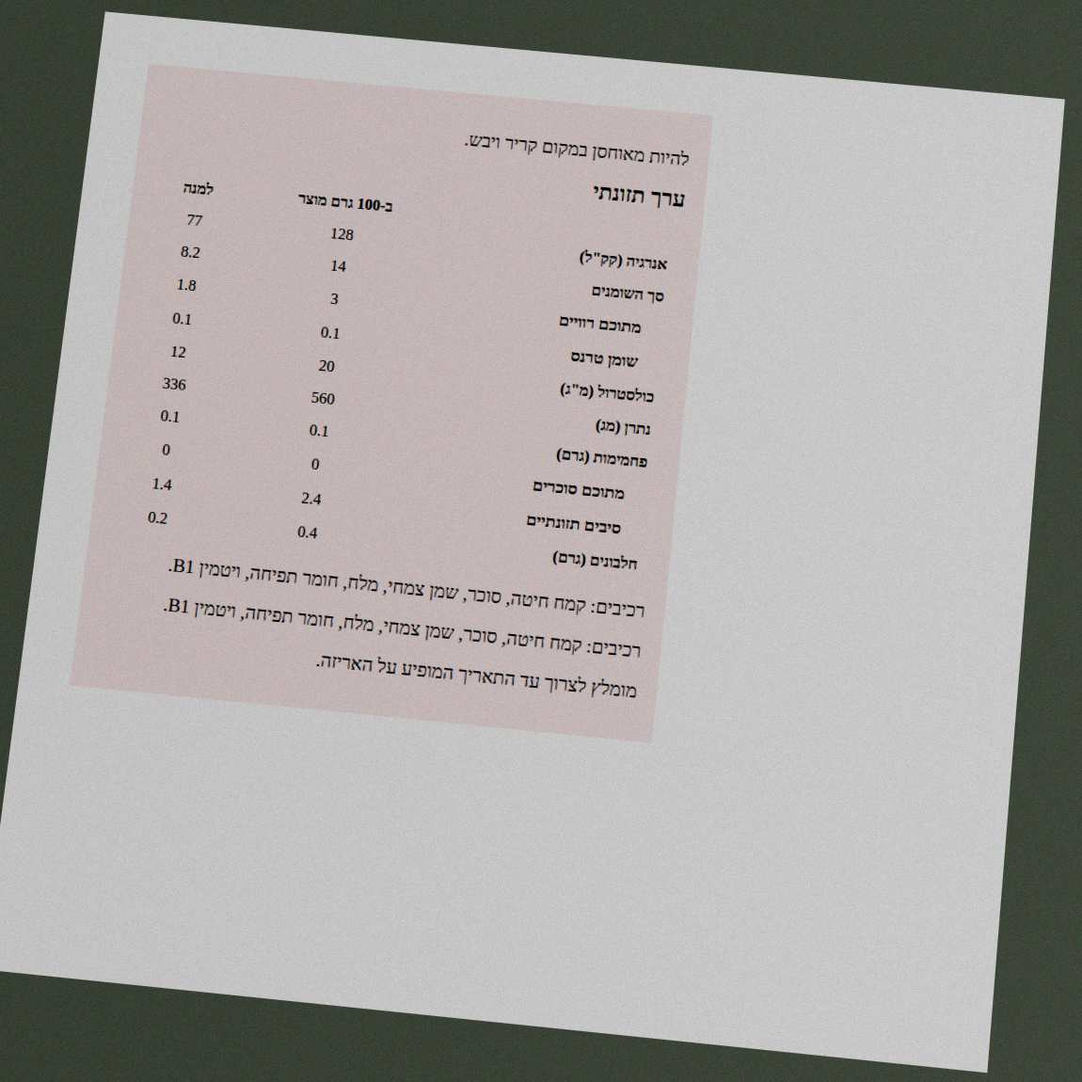carbs: (306, 419, 332, 442)
energy: (327, 223, 357, 245)
fat: (328, 255, 349, 277)
protein: (295, 521, 320, 544)
